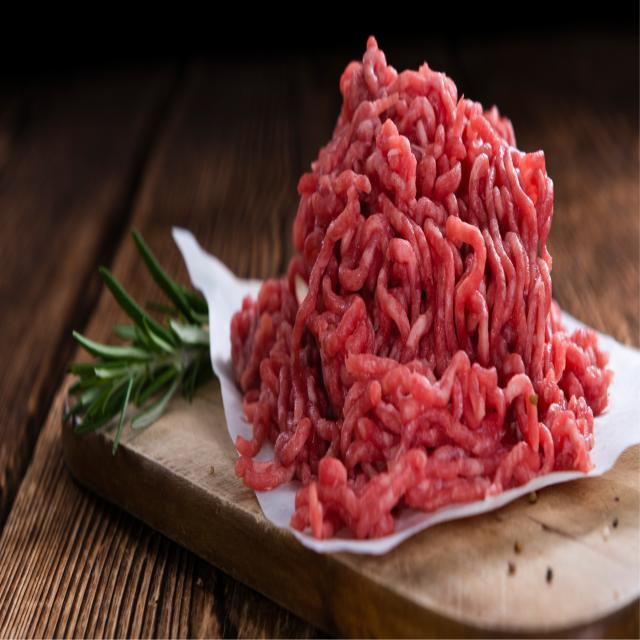carne de res: (234, 29, 616, 545)
